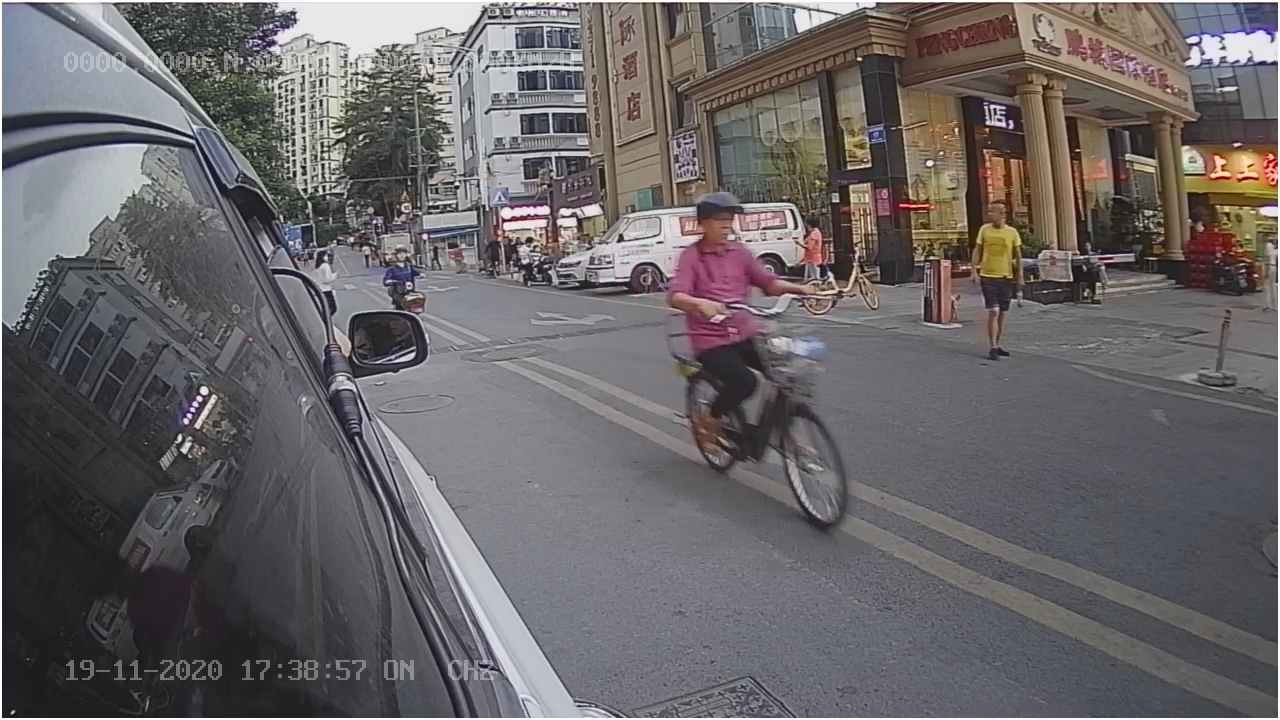person: (665, 192, 789, 358), (964, 201, 1034, 363)
